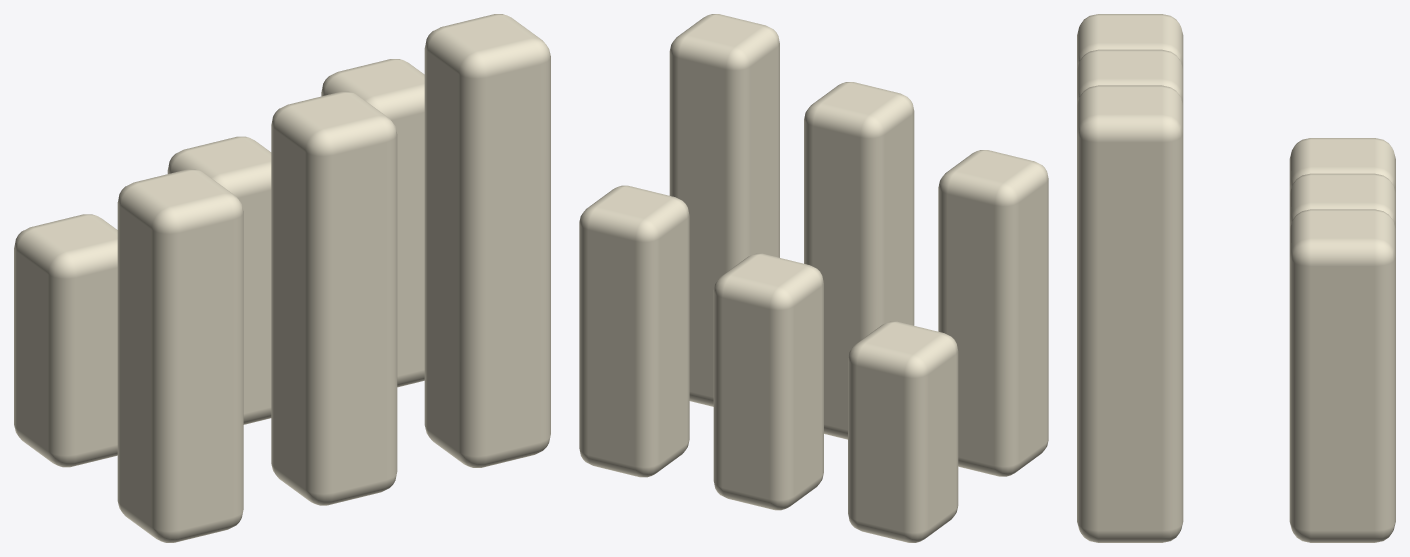
The model's file is ceramics-pottery-studio-kiln-post-set-30fecfb0__29505.glb.
3 views of the same model, side by side, from view 1: azimuth 30°, elevation 25°; view 2: azimuth 150°, elevation 25°; view 3: azimuth 270°, elevation 25° (orthographic). The views are drawn at different scales.
Parts seen in each view (by area): view 1: kiln-post-set; view 2: kiln-post-set; view 3: kiln-post-set.
Part boxes in pixels (<box>): kiln-post-set: <box>14,14,550,542</box>; kiln-post-set: <box>579,14,1048,542</box>; kiln-post-set: <box>1077,14,1395,542</box>.
Size of the model in its own units: 0.155 by 0.155 by 0.105.
